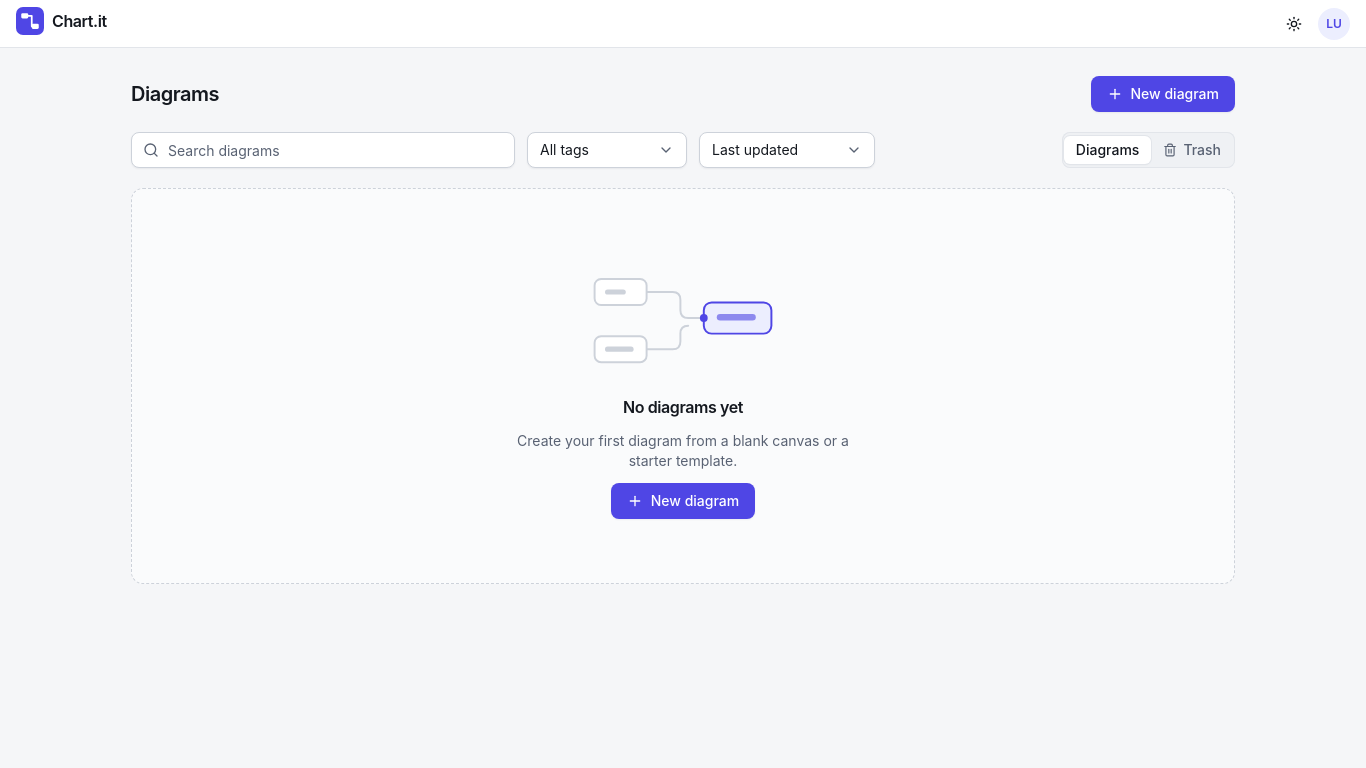
Test: UserMenu › hides sign out in single-user mode
Click the button with aria-label "Account menu" at (1334, 24), box [1318,8,1350,40]
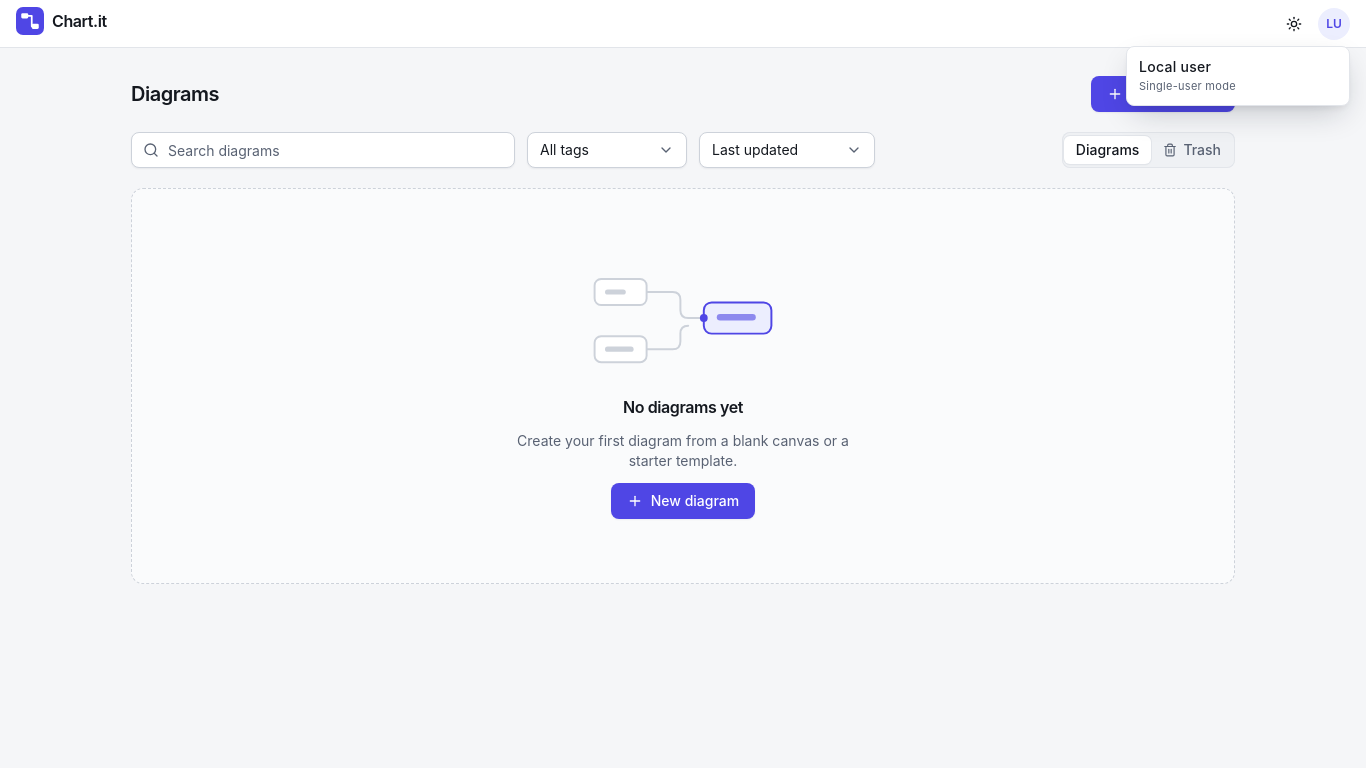
Now the text "Single-user mode" is shown, box [1139,79,1236,93]
